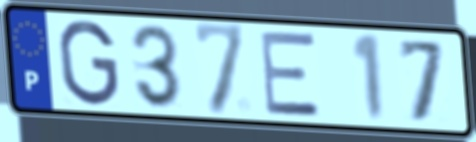1: (350, 31, 385, 125)
3: (130, 22, 182, 111)
7: (192, 19, 249, 120), (397, 38, 450, 125)
E: (257, 31, 325, 120)
G: (56, 17, 122, 108)
